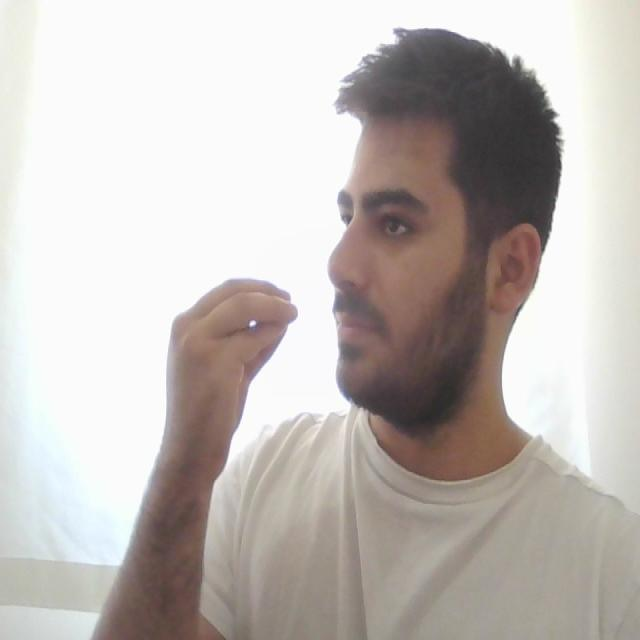Yemek: (163, 273, 390, 392)
